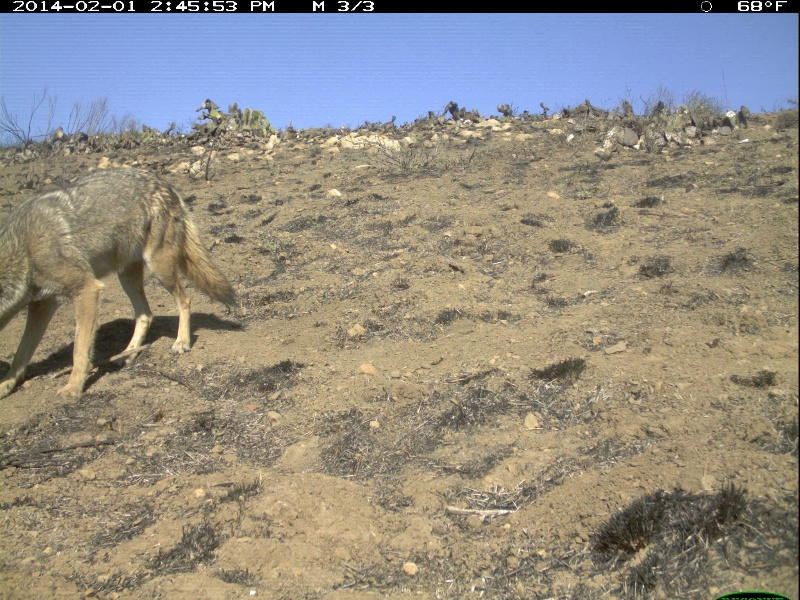coyote: (1, 169, 244, 403)
